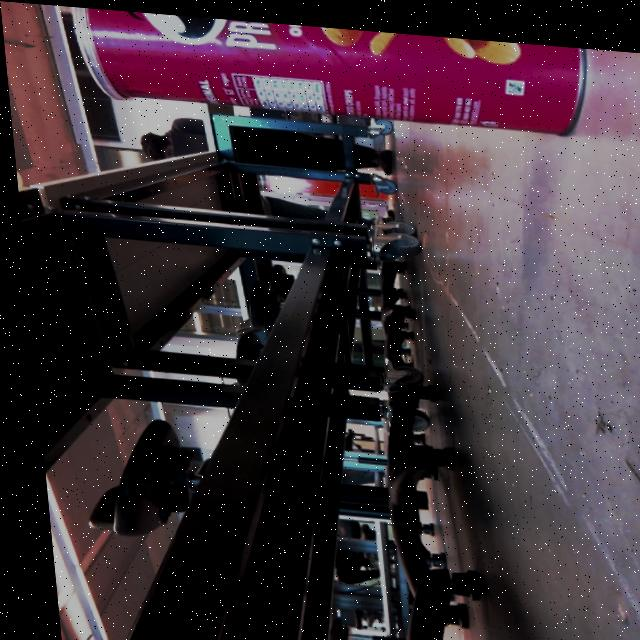redpringles: (72, 5, 611, 137)
